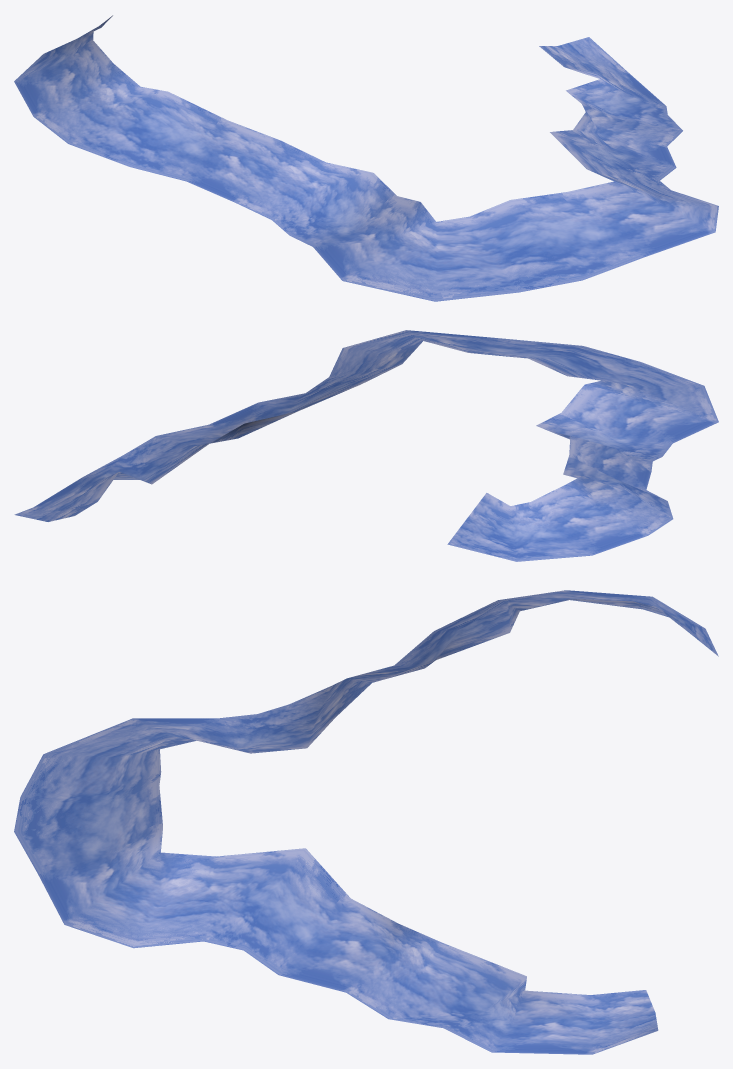
The model's file is fengbaozhita_05_c.FBX.
The picture shows the model from 3 angles, top to bottom: view 1: azimuth 30°, elevation 25°; view 2: azimuth 150°, elevation 25°; view 3: azimuth 270°, elevation 25°; orthographic projection. The views are drawn at different scales.
Parts seen in each view (by area): view 1: fengbaozhita_05_c; view 2: fengbaozhita_05_c; view 3: fengbaozhita_05_c.
Boxes of the visible parts, x1,y1,x2,y2 form: fengbaozhita_05_c: (14,15,718,301); fengbaozhita_05_c: (14,330,718,561); fengbaozhita_05_c: (14,590,718,1054).
Bounding box in the file's own units: 8583 × 2101 × 7575.
